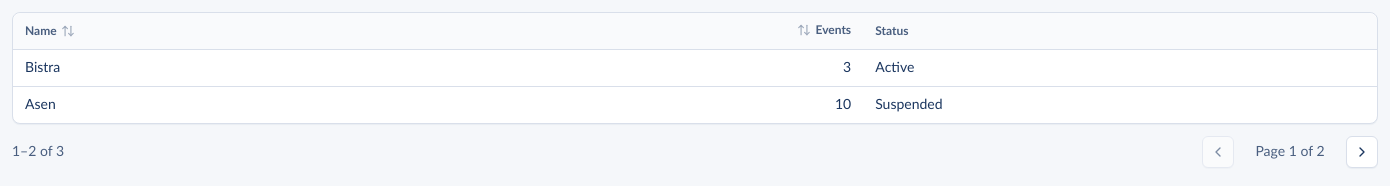
Test: DataTable › paginates on the client
This screenshot has width=1390, height=186.
Expected: the navigation bar named "pagination" shows "1–2 of 3", [12,144,64,158]
Click the button named "next" at (1362, 152), box [1346,136,1378,168]
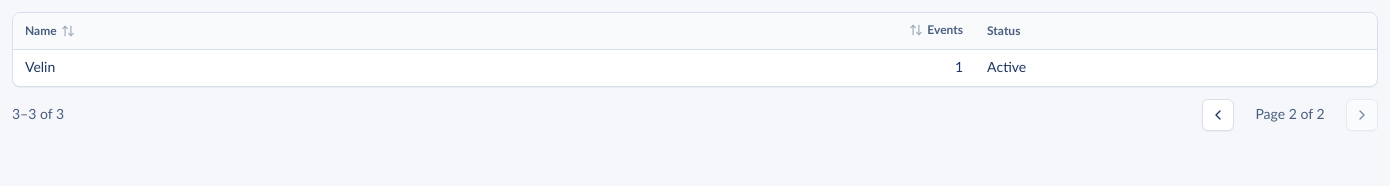
Expected: the navigation bar named "pagination" shows "3–3 of 3", [12,108,64,122]
